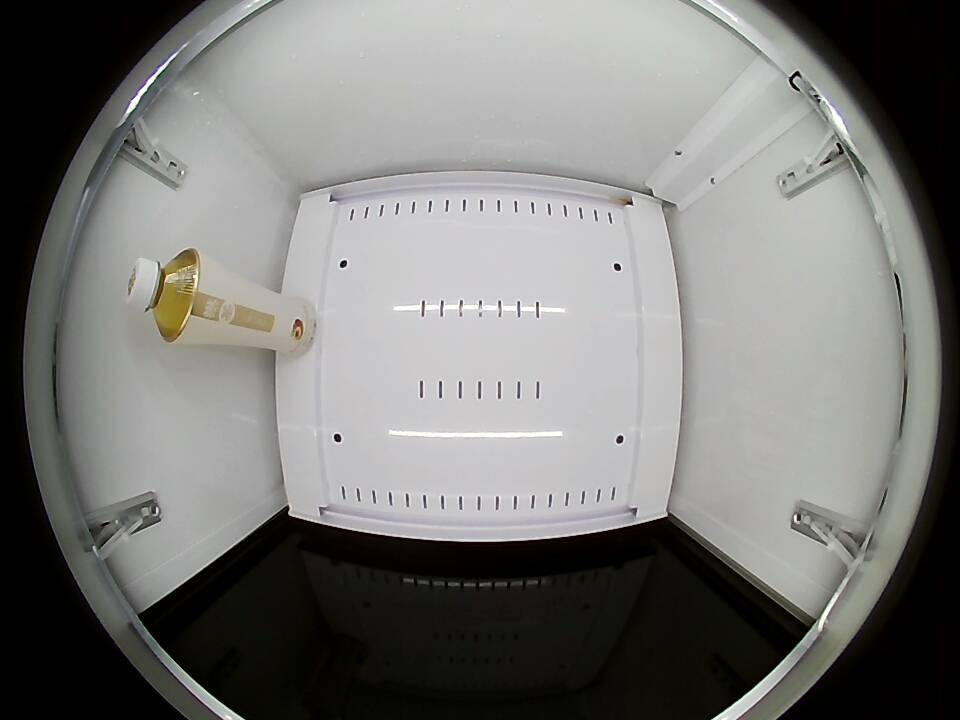rancha-2: (126, 248, 201, 340)
